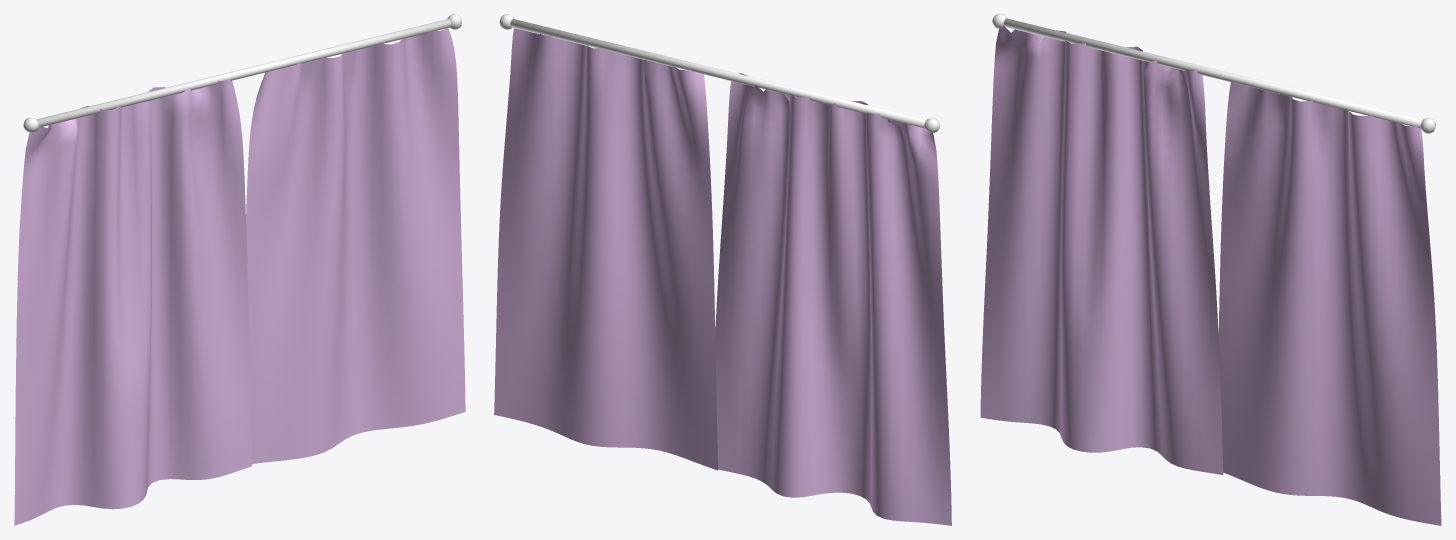
Rendered from Curtain.fbx.
The picture shows the model from 3 angles, left to right: view 1: azimuth 30°, elevation 25°; view 2: azimuth 150°, elevation 25°; view 3: azimuth 330°, elevation 25°; orthographic projection.
Visible parts, largest first — view 1: 평면.001; view 2: 평면.001; view 3: 평면.001.
Part boxes in pixels (x1,y1,x2,y2): 평면.001: [14, 14, 465, 525]; 평면.001: [494, 14, 951, 525]; 평면.001: [980, 14, 1441, 525].
Bounding box in the file's own units: 16.85 × 14.32 × 1.29.
